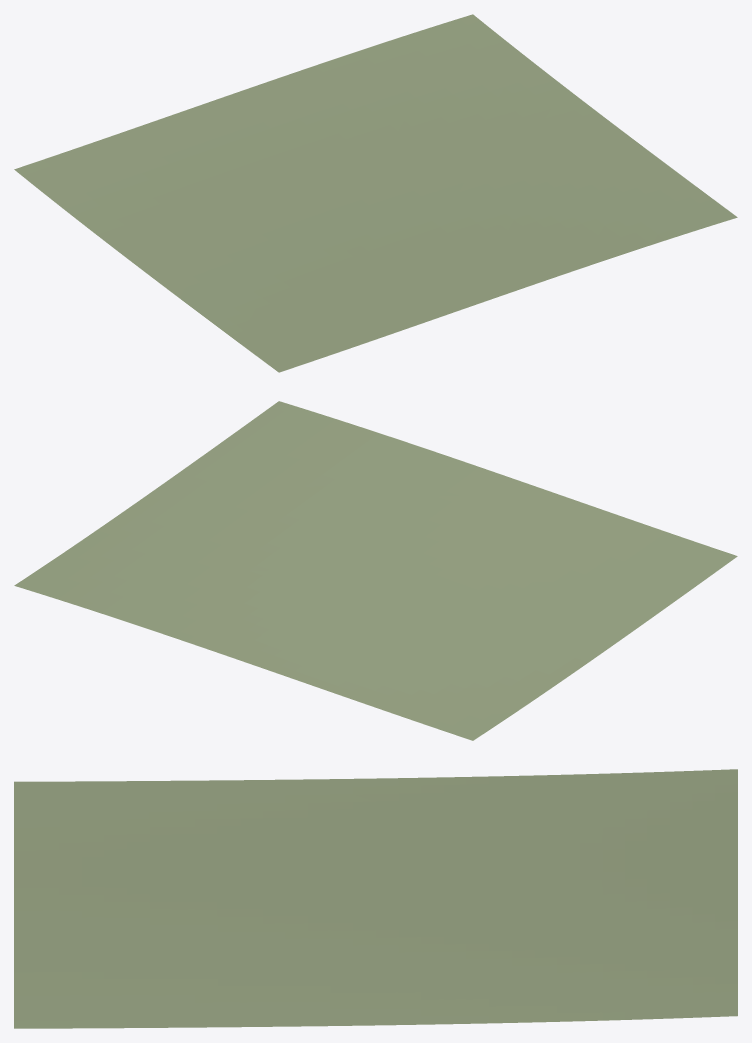
File: valley-14-4.glb
3 renders of one model, top to bottom at view 1: azimuth 30°, elevation 25°; view 2: azimuth 150°, elevation 25°; view 3: azimuth 270°, elevation 25°, orthographic. The views are drawn at different scales.
Visible parts, largest first — view 1: valley-14-4; view 2: valley-14-4; view 3: valley-14-4.
Part boxes in pixels (bbox=[...]): valley-14-4: bbox=[14, 14, 737, 372]; valley-14-4: bbox=[14, 401, 737, 740]; valley-14-4: bbox=[14, 769, 737, 1028].
Bounding box in the file's own units: 256 × 27.96 × 256.
